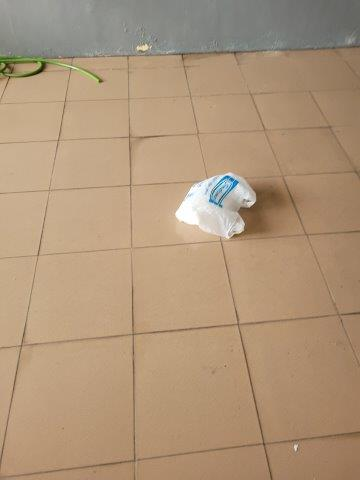plastik: (175, 171, 256, 242)
